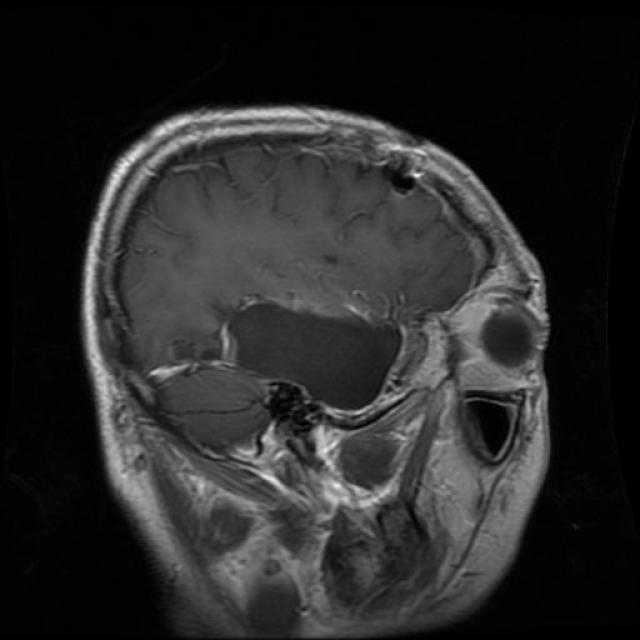glioma: (224, 300, 412, 415)
